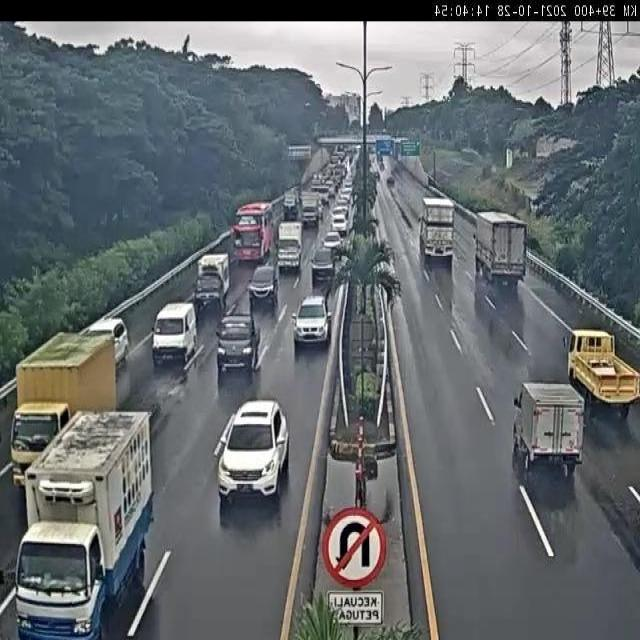Bus: (233, 202, 276, 262)
Car: (212, 390, 295, 520), (209, 308, 260, 392), (291, 293, 332, 346), (89, 315, 130, 367), (245, 264, 284, 306), (308, 246, 338, 282), (321, 233, 344, 254), (330, 214, 347, 233)
Truck: (6, 412, 163, 640), (0, 335, 120, 466), (562, 328, 640, 412), (513, 384, 583, 477), (412, 197, 461, 278), (477, 211, 528, 287), (192, 246, 231, 310), (277, 221, 303, 271), (298, 190, 322, 230)
Van: (148, 302, 198, 372)
